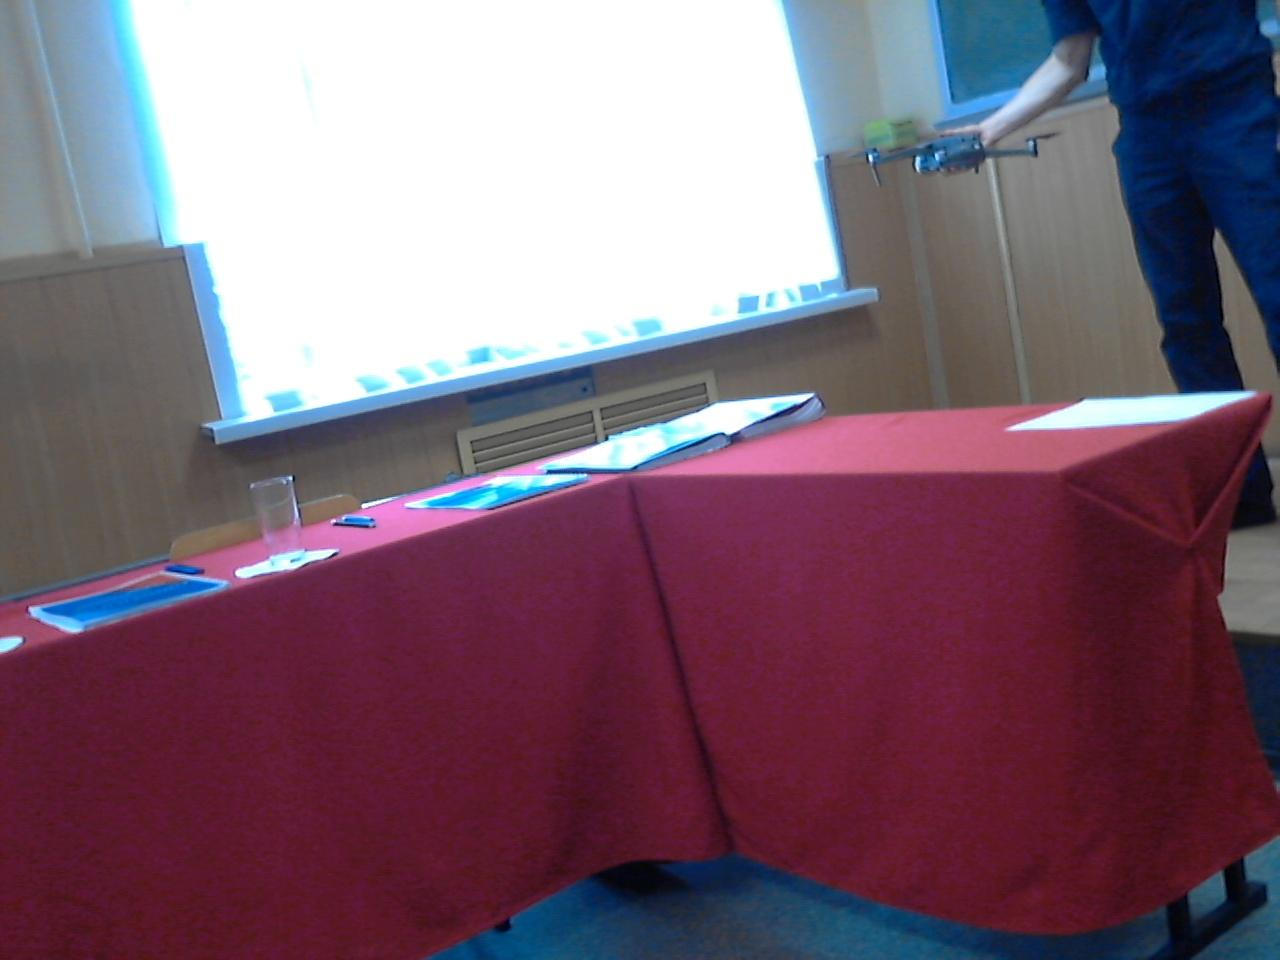drone: (833, 116, 1072, 204)
